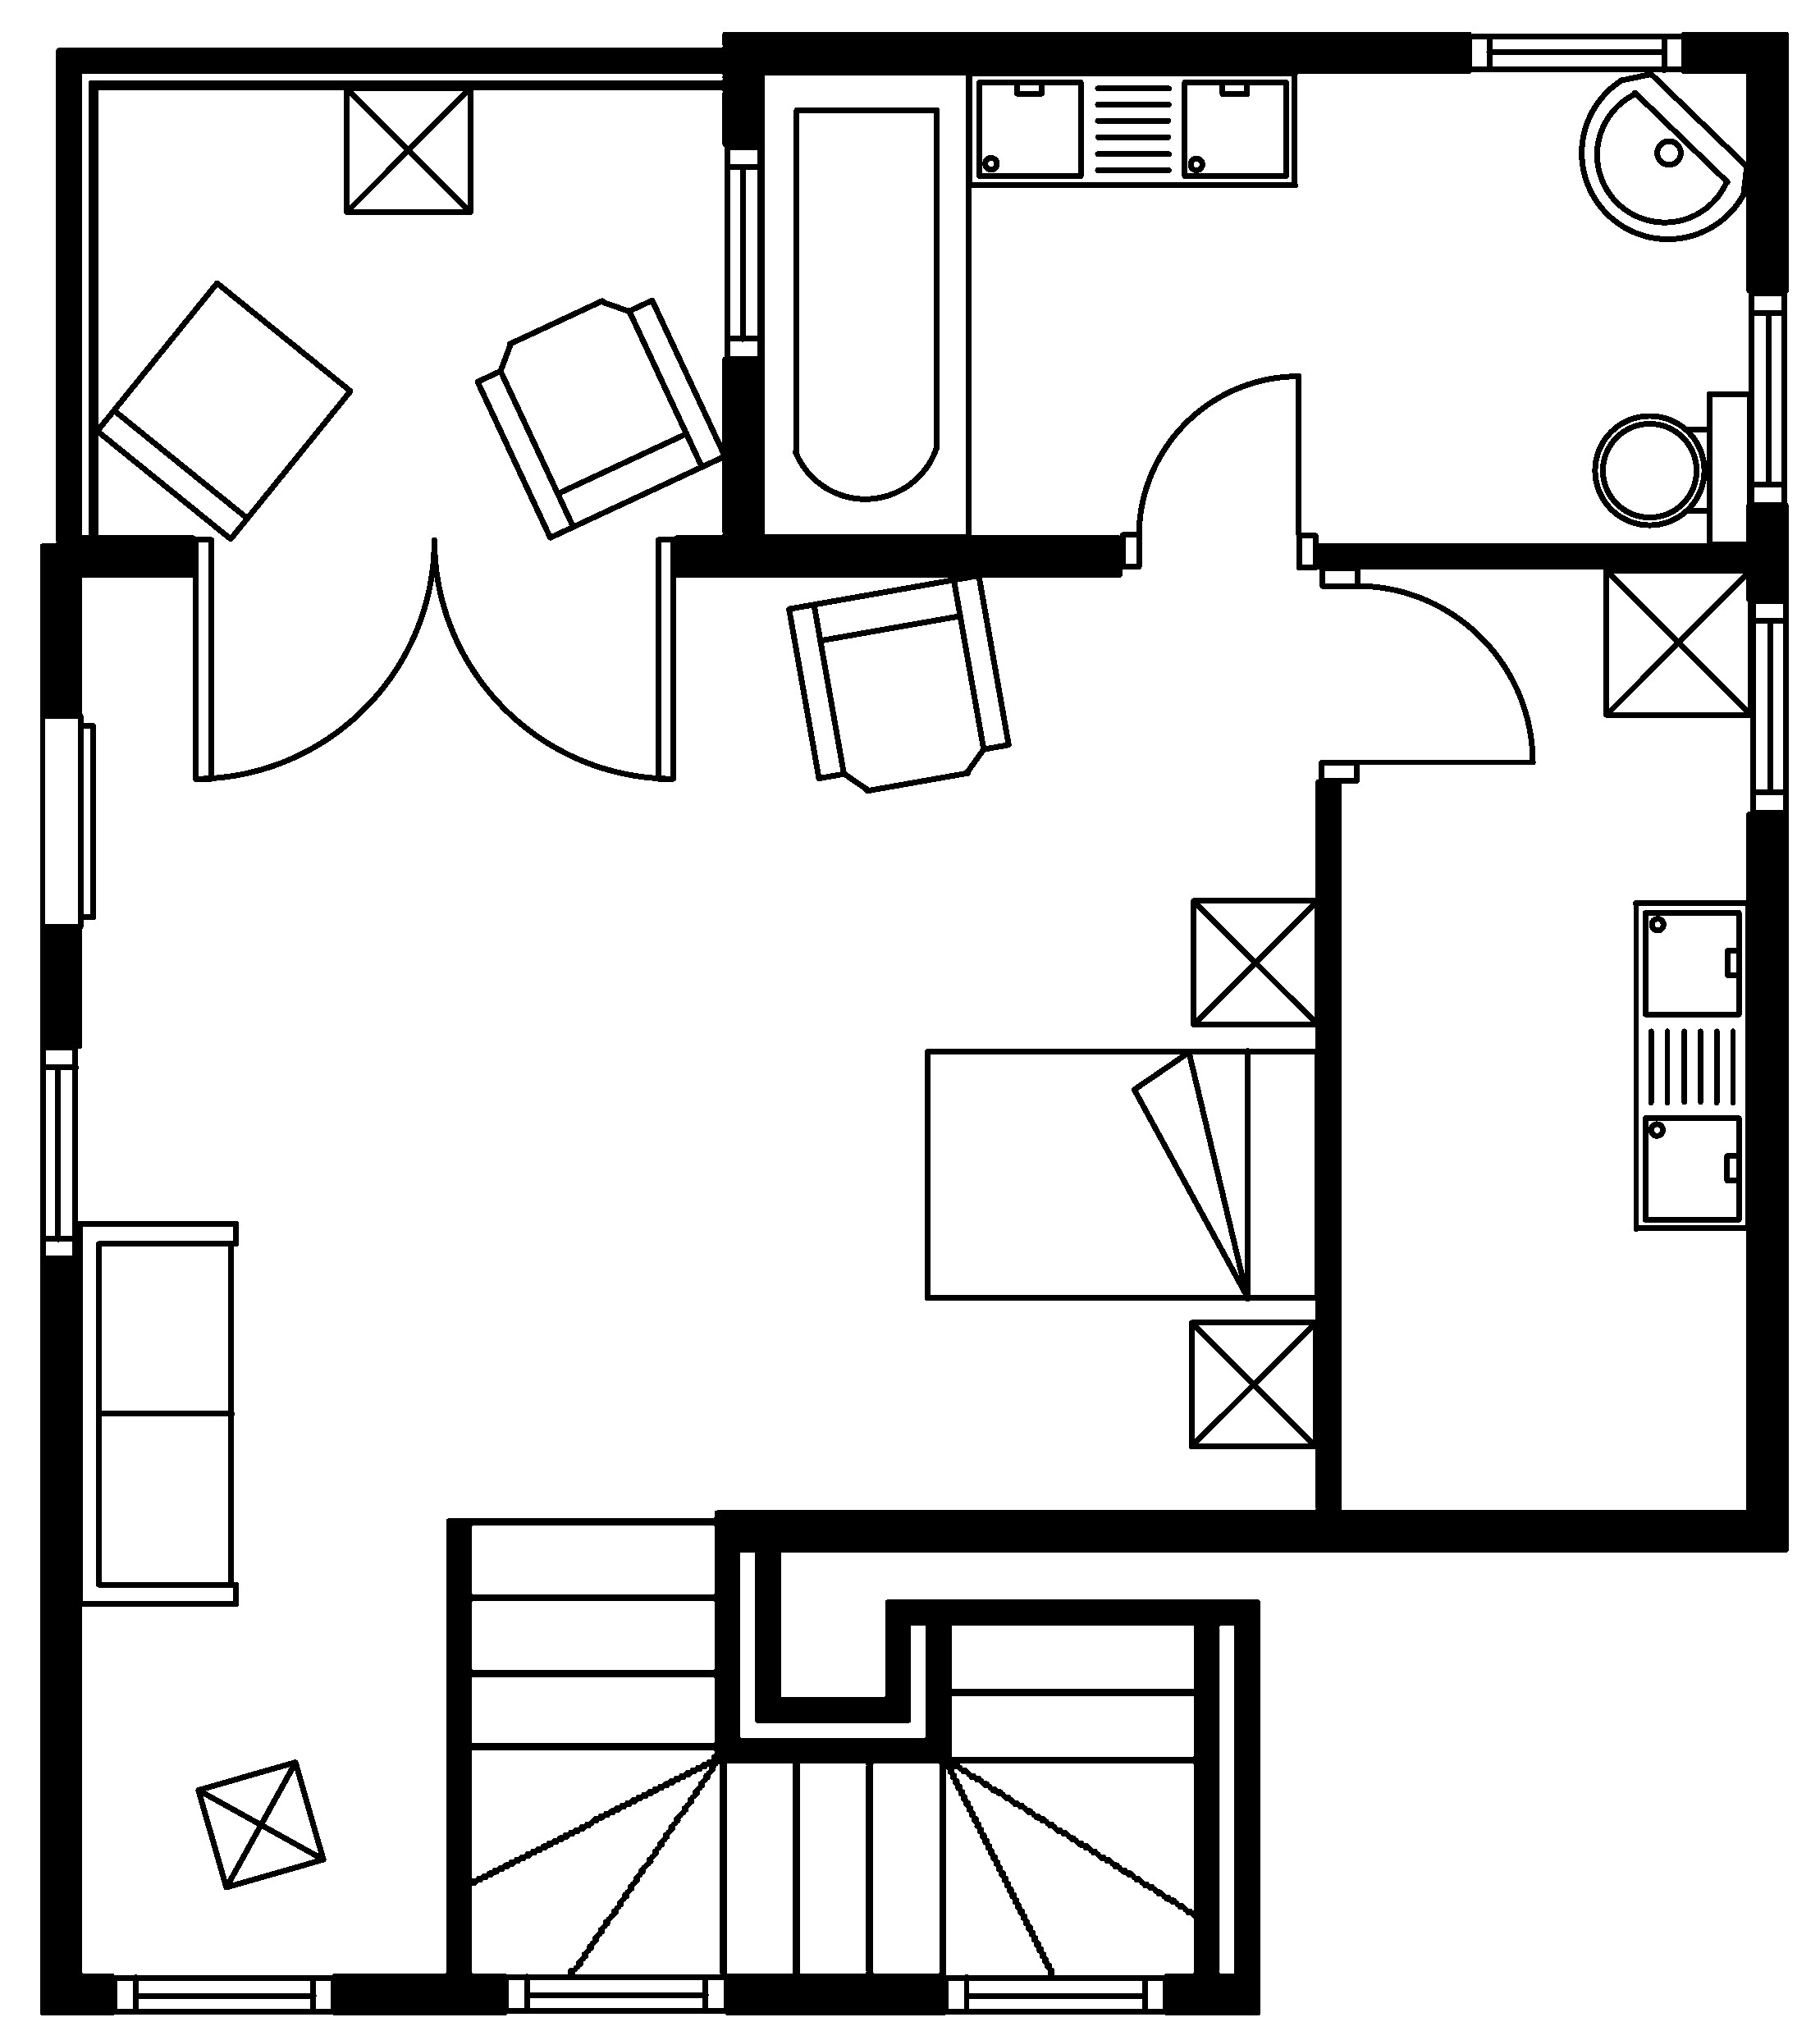armchair: (473, 297, 727, 541), (785, 571, 1012, 794)
bed: (922, 1047, 1321, 1302)
coffee_table: (1602, 566, 1753, 719), (193, 1757, 327, 1890), (1186, 1318, 1319, 1449), (1189, 896, 1321, 1028), (343, 84, 474, 214)
large_sink: (1592, 388, 1753, 548)
large_sofa: (76, 1219, 239, 1608)
small_sink: (1578, 70, 1750, 241)
small_sofa: (93, 278, 353, 543)
tub: (757, 69, 971, 539)
twin_sink: (1630, 898, 1750, 1233), (964, 69, 1298, 188)
